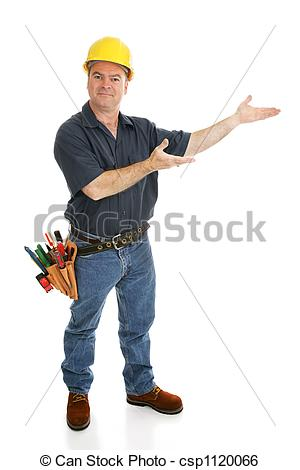hard hat: (83, 36, 132, 77)
